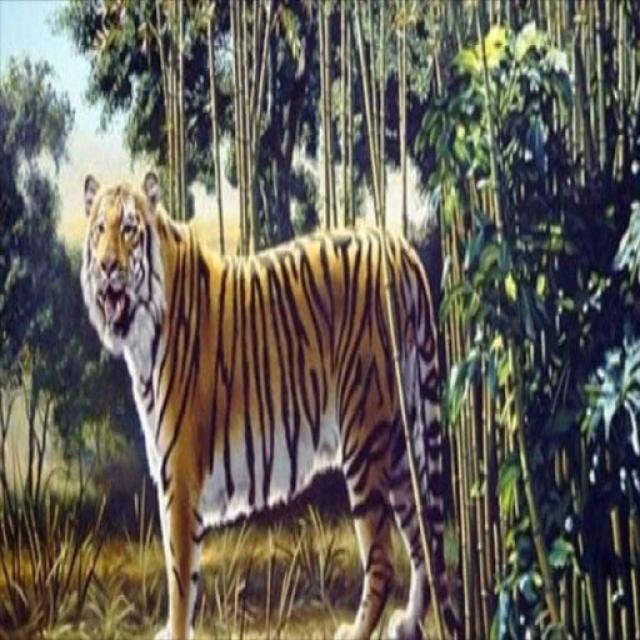tiger: (78, 168, 466, 639)
